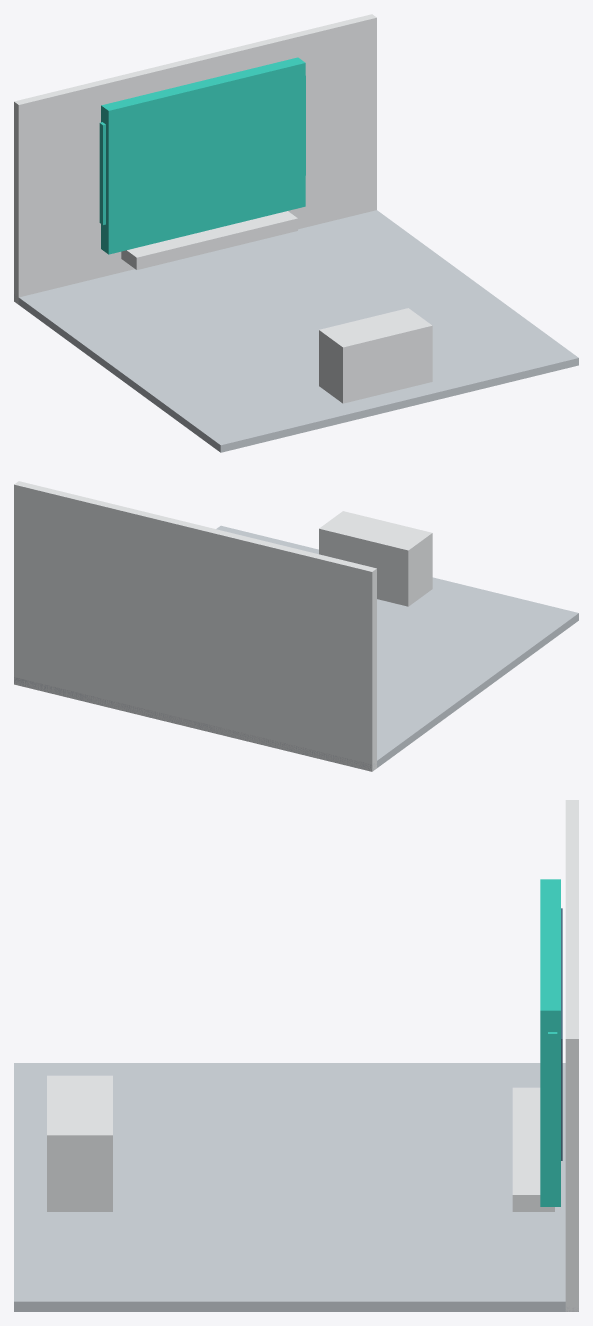
3 views of the same model, one above another, from view 1: azimuth 30°, elevation 25°; view 2: azimuth 150°, elevation 25°; view 3: azimuth 270°, elevation 25° (orthographic). The views are drawn at different scales.
Parts seen in each view (by area): view 1: Exhibition Booth Concept; view 2: Exhibition Booth Concept; view 3: Exhibition Booth Concept.
Boxes of the visible parts, x1,y1,x2,y2 form: Exhibition Booth Concept: (14, 14, 578, 452); Exhibition Booth Concept: (14, 481, 578, 771); Exhibition Booth Concept: (14, 800, 578, 1311).
Bounding box in the file's own units: 6 × 3.2 × 6.
